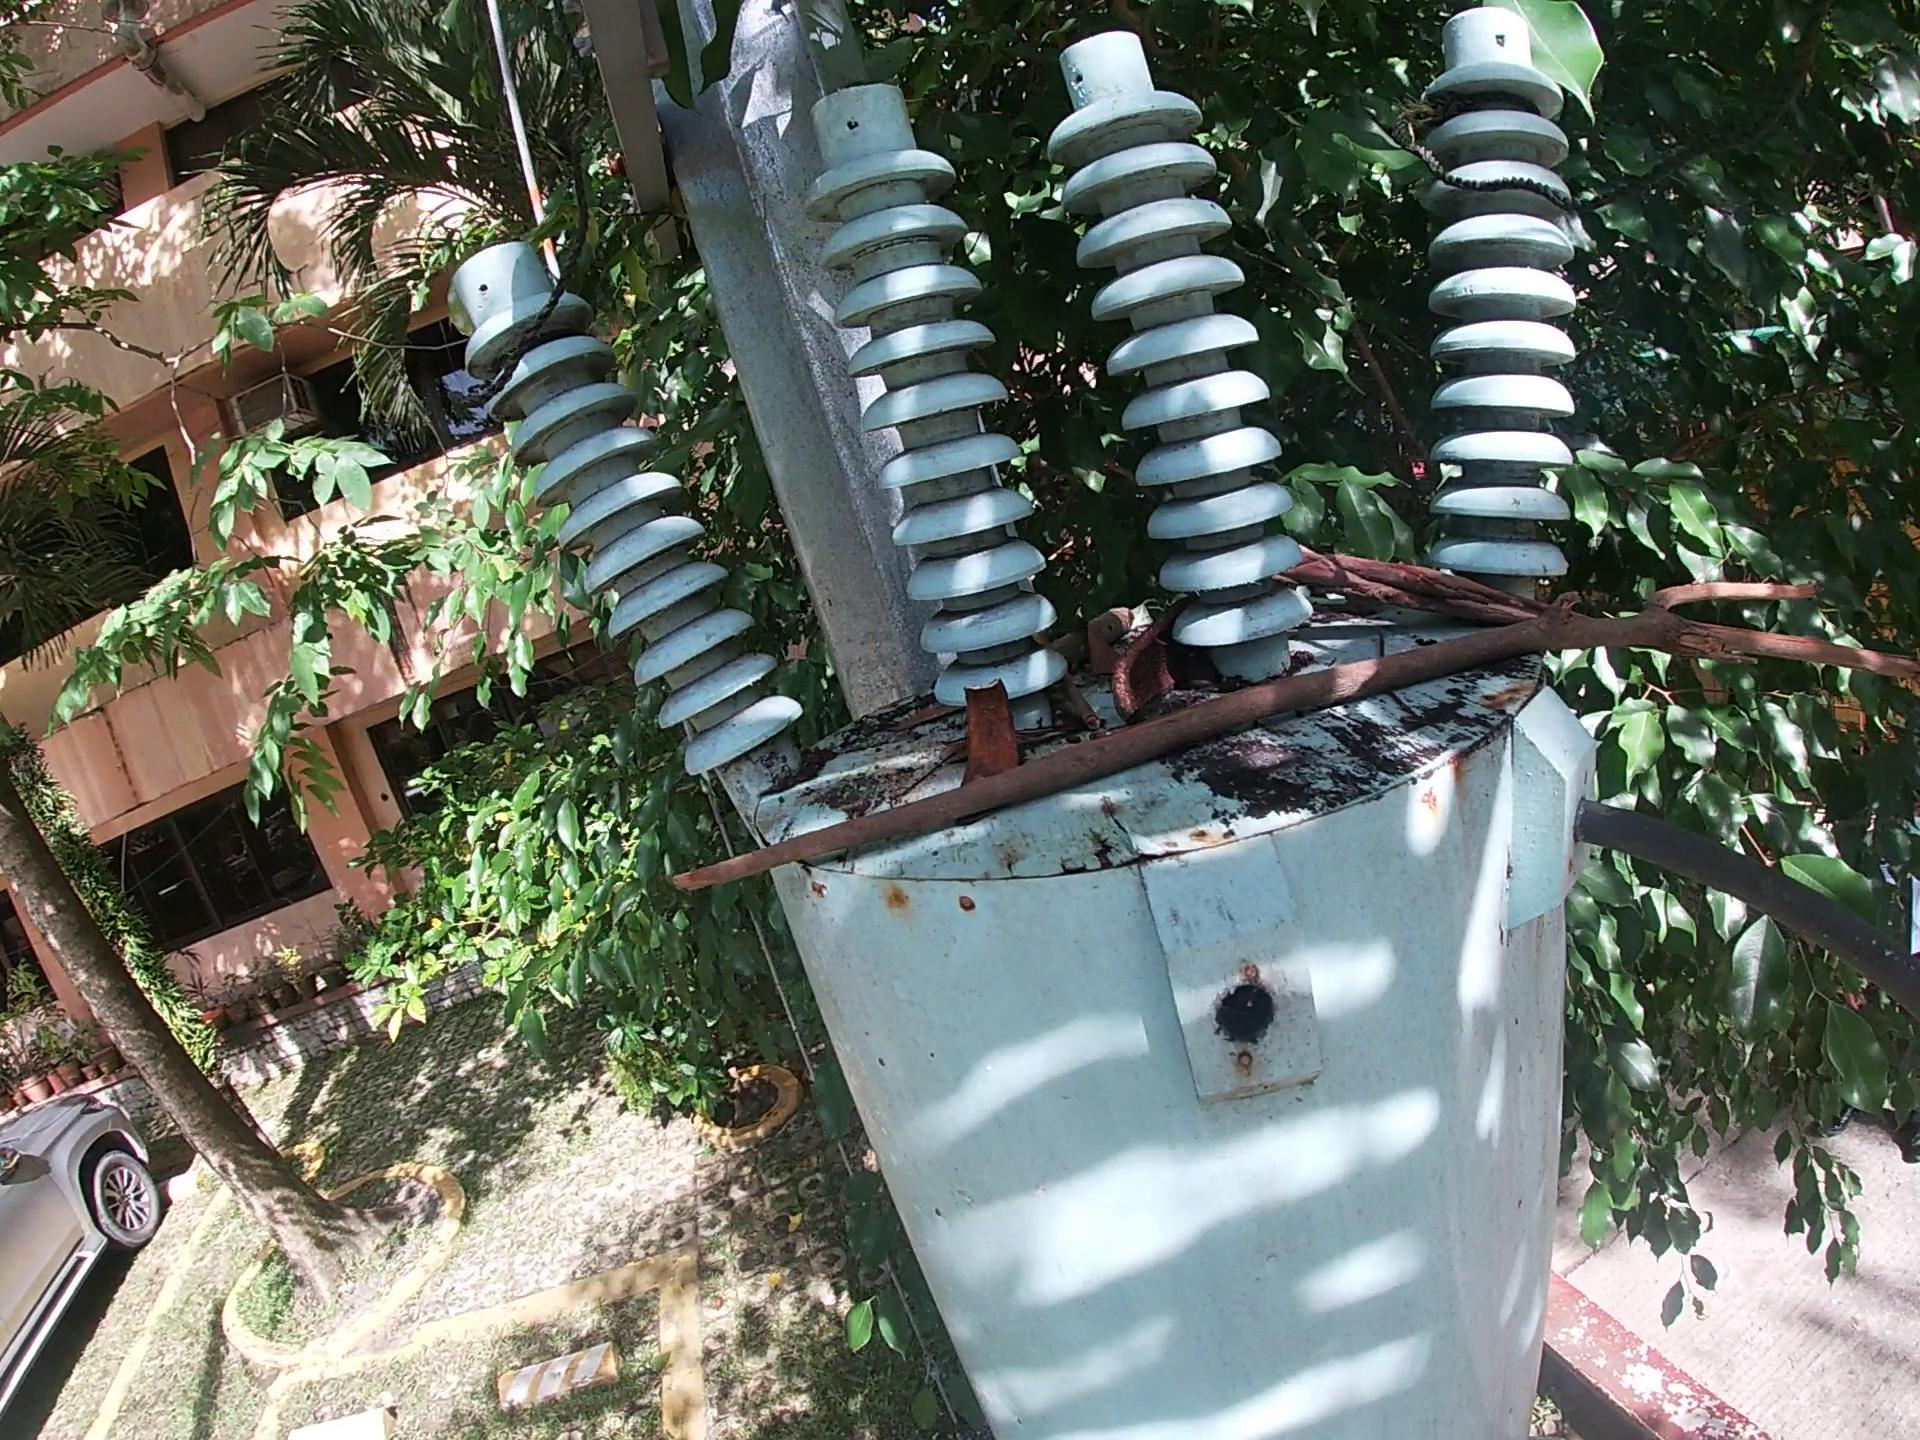leaf: (1082, 620, 1125, 681)
mahogany fruit: (1104, 597, 1200, 722), (948, 676, 1033, 788)
tree branch: (652, 573, 1920, 911), (1284, 542, 1764, 673), (1051, 607, 1134, 679)
